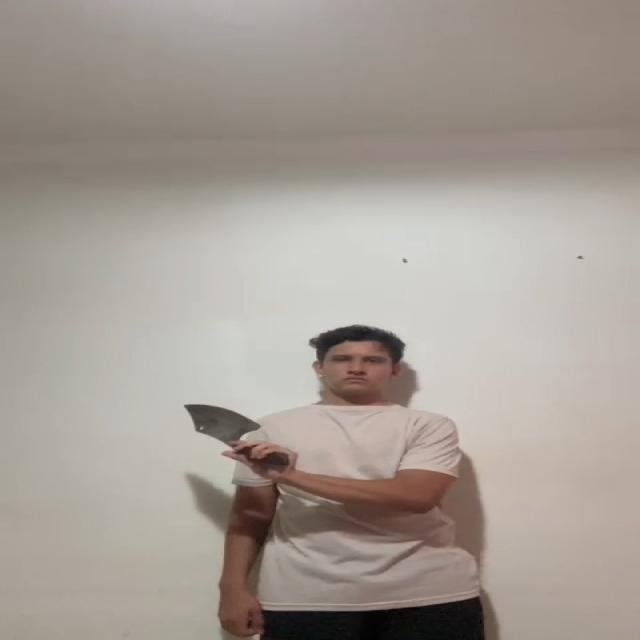knife: (185, 400, 262, 440)
